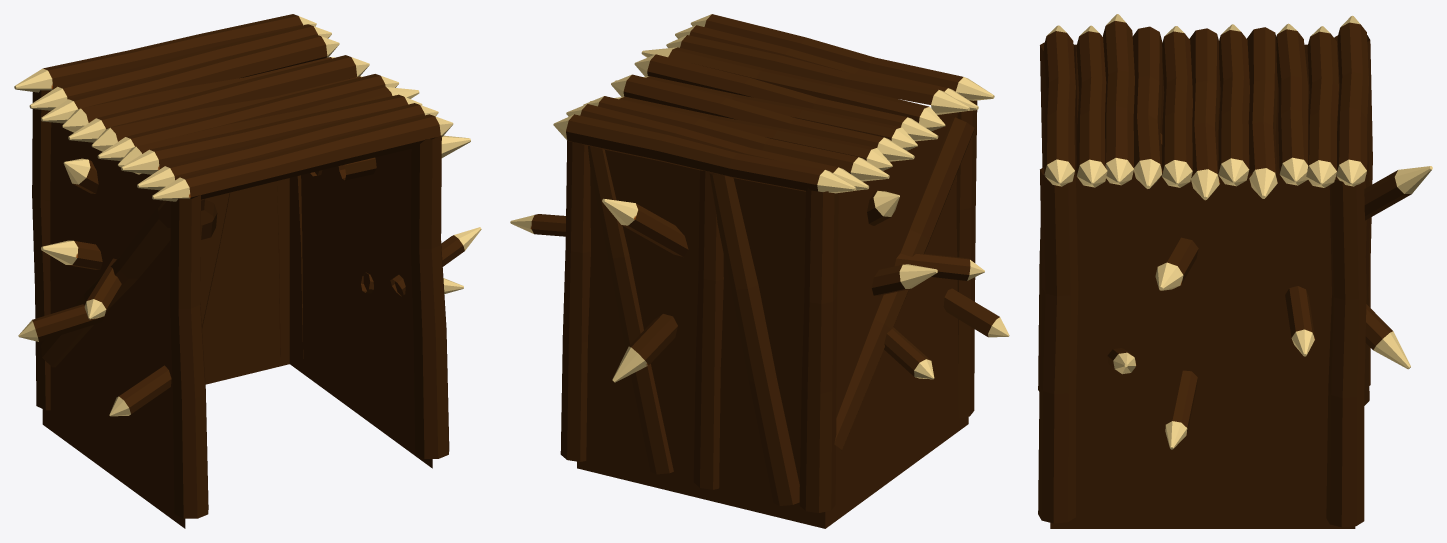
The model's file is dam.fbx.
3 views of the same model, side by side, from view 1: azimuth 30°, elevation 25°; view 2: azimuth 150°, elevation 25°; view 3: azimuth 270°, elevation 25° (orthographic). The views are drawn at different scales.
Visible parts, largest first — view 1: Загата; view 2: Загата; view 3: Загата.
Part boxes in pixels (left/top/right/bottom): Загата: left=14, top=14, right=481, bottom=528; Загата: left=510, top=14, right=1009, bottom=528; Загата: left=1038, top=14, right=1432, bottom=528.
Bounding box in the file's own units: 3.06 × 2.57 × 2.43.
